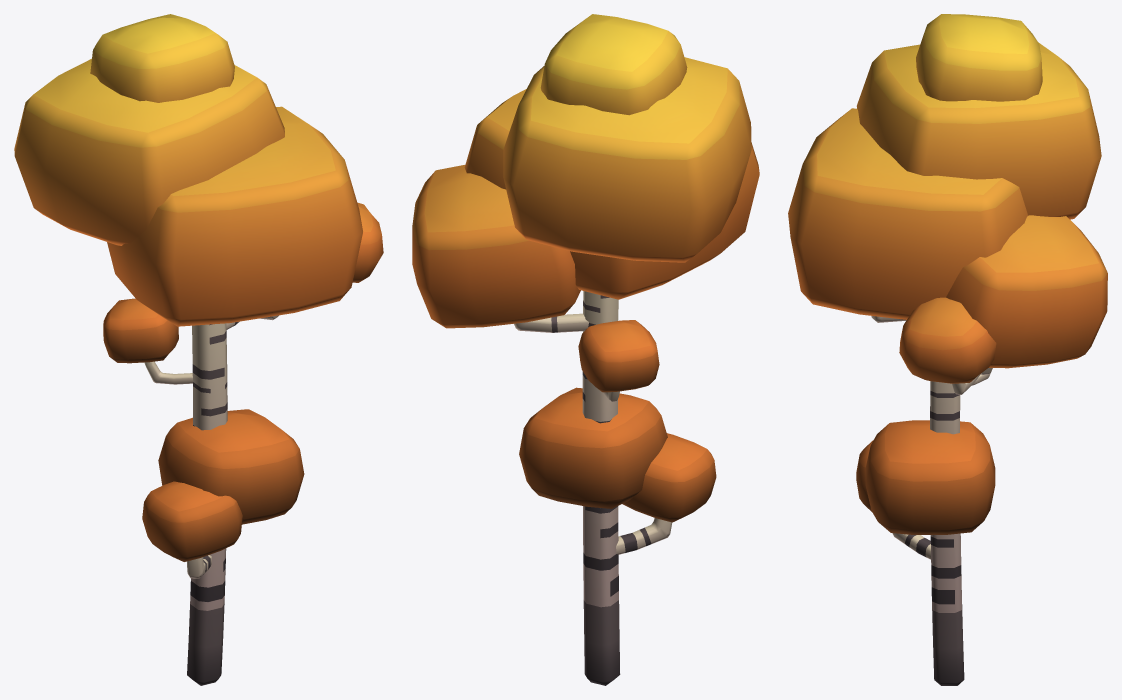
The model's file is birch_tree_col2_02.fbx.
3 views of the same model, side by side, from view 1: azimuth 30°, elevation 25°; view 2: azimuth 150°, elevation 25°; view 3: azimuth 270°, elevation 25° (orthographic). The views are drawn at different scales.
Visible parts, largest first — view 1: birch_tree_col2_02; view 2: birch_tree_col2_02; view 3: birch_tree_col2_02.
Boxes of the visible parts, x1=… form: birch_tree_col2_02: x1=14, y1=14, x2=383, y2=685; birch_tree_col2_02: x1=412, y1=14, x2=759, y2=685; birch_tree_col2_02: x1=788, y1=14, x2=1107, y2=685.
Size of the model in its own units: 612 by 1187 by 533.
Materials: 1 (1 with a texture image).
